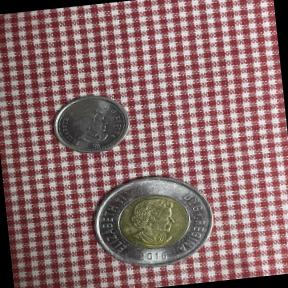coin: (83, 163, 224, 276), (45, 90, 137, 163)
